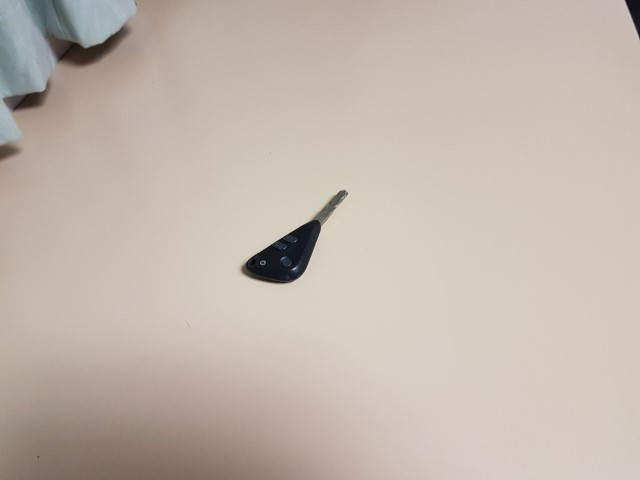key: (244, 187, 350, 284)
